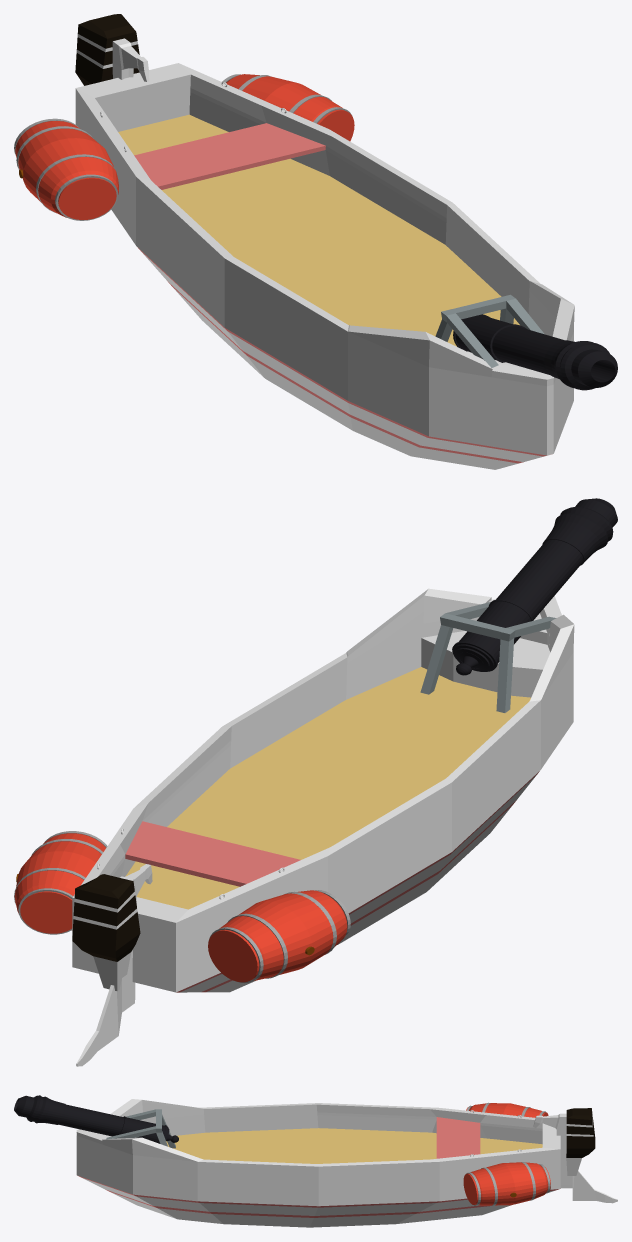
3 views of the same model, one above another, from view 1: azimuth 30°, elevation 25°; view 2: azimuth 150°, elevation 25°; view 3: azimuth 270°, elevation 25° (orthographic). The views are drawn at different scales.
Visible parts, largest first — view 1: Motor; view 2: Motor; view 3: Motor.
Part boxes in pixels (left/top/right/bottom): Motor: left=14, top=14, right=617, bottom=469; Motor: left=14, top=498, right=617, bottom=1066; Motor: left=14, top=1095, right=617, bottom=1227.
Bounding box in the file's own units: 2.84 × 1.88 × 8.5.
